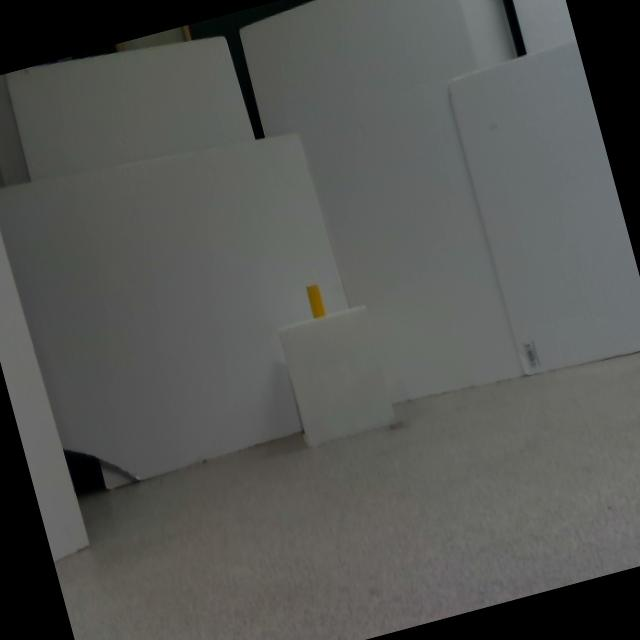yellow_cylinder: (306, 282, 326, 318)
